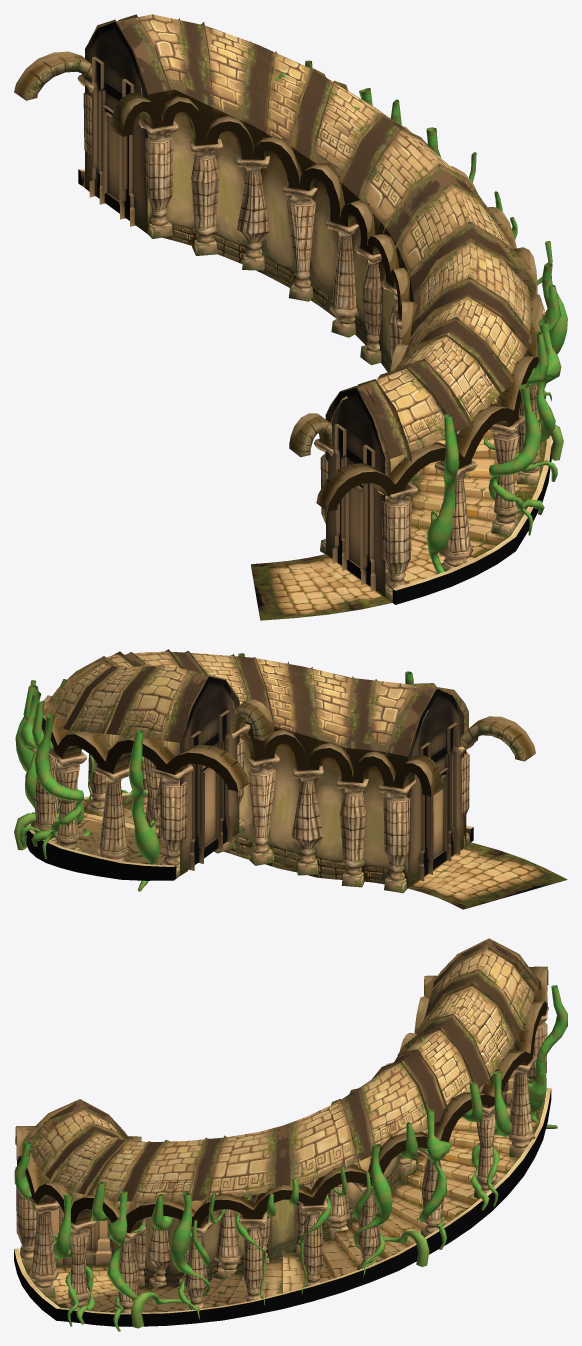
Rendered from phone_stairF.fbx.
3 renders of one model, top to bottom at view 1: azimuth 30°, elevation 25°; view 2: azimuth 150°, elevation 25°; view 3: azimuth 270°, elevation 25°, orthographic. The views are drawn at different scales.
Parts seen in each view (by area): view 1: phone_celling, phone_wall, phone_columm, phone_door, phone_plant, phone_stair; view 2: phone_columm, phone_celling, phone_wall, phone_door, phone_plant, phone_stair; view 3: phone_celling, phone_stair, phone_columm, phone_plant, phone_wall, phone_door.
Part boxes in pixels (bbox=[...]): phone_celling: bbox=[89, 14, 536, 478]; phone_wall: bbox=[14, 51, 542, 511]; phone_columm: bbox=[77, 75, 545, 620]; phone_door: bbox=[85, 22, 390, 597]; phone_plant: bbox=[275, 60, 567, 573]; phone_stair: bbox=[78, 169, 551, 604]; phone_columm: bbox=[32, 723, 567, 909]; phone_celling: bbox=[45, 649, 468, 757]; phone_wall: bbox=[42, 695, 535, 888]; phone_door: bbox=[180, 676, 464, 888]; phone_plant: bbox=[14, 653, 414, 891]; phone_stair: bbox=[26, 792, 473, 880]; phone_celling: bbox=[22, 938, 539, 1213]; phone_stair: bbox=[14, 1088, 551, 1326]; phone_columm: bbox=[15, 1006, 548, 1326]; phone_plant: bbox=[14, 985, 567, 1331]; phone_wall: bbox=[15, 966, 548, 1286]; phone_door: bbox=[50, 945, 540, 1266].
Size of what is drawn, in the model's own units: 79.52 by 73.84 by 115.
